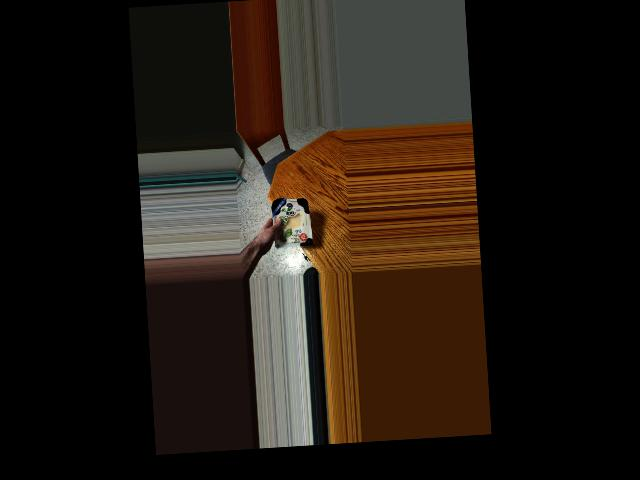cheese: (269, 185, 313, 259)
